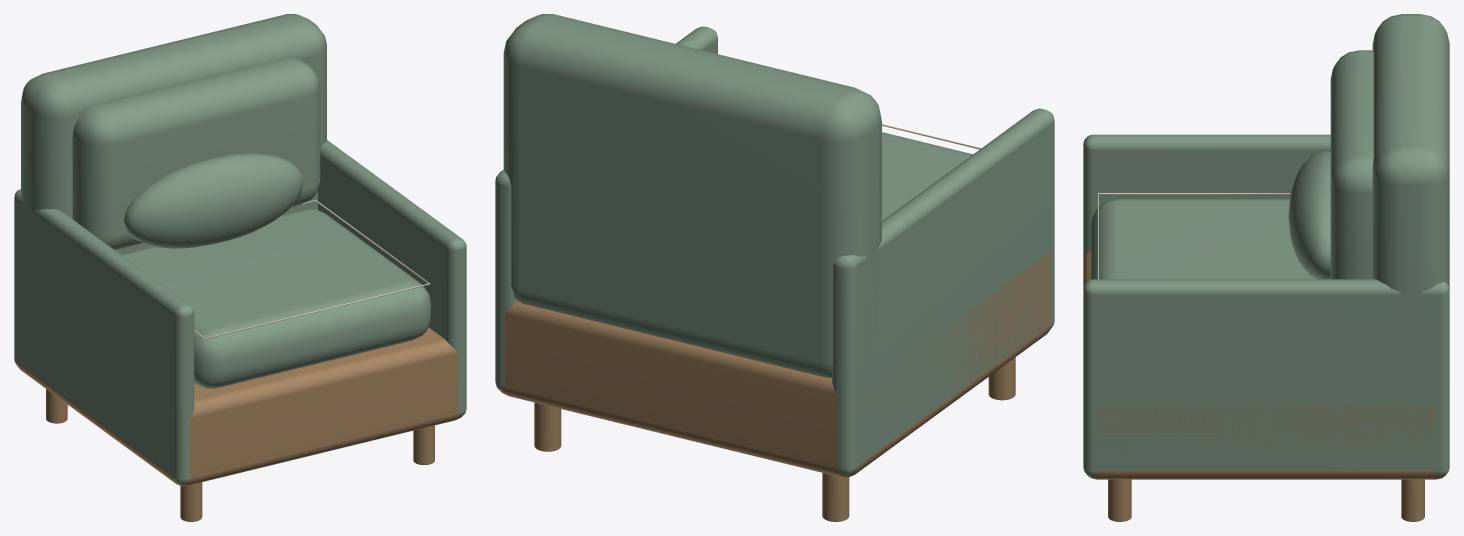
The picture shows the model from 3 angles, left to right: view 1: azimuth 30°, elevation 25°; view 2: azimuth 150°, elevation 25°; view 3: azimuth 270°, elevation 25°; orthographic projection. The views are drawn at different scales.
Visible parts, largest first — view 1: arm_-1, seat_0, cushion_0, base, back, arm_1, pillow_-1, seam_seat_0, leg_-1_1, leg_1_1, leg_-1_-1; view 2: back, arm_-1, base, seat_0, arm_1, leg_-1_-1, leg_1_-1, leg_-1_1; view 3: arm_1, back, seat_0, arm_-1, cushion_0, base, pillow_-1, leg_1_-1, leg_1_1, seam_seat_0.
Boxes of the visible parts, <box> form: arm_-1: <box>14,189,194,484</box>; seat_0: <box>120,209,430,388</box>; cushion_0: <box>72,58,320,249</box>; base: <box>17,305,462,486</box>; back: <box>21,14,326,253</box>; arm_1: <box>318,140,466,415</box>; pillow_-1: <box>124,153,303,248</box>; seam_seat_0: <box>115,200,430,339</box>; leg_-1_1: <box>180,482,202,521</box>; leg_1_1: <box>413,425,434,465</box>; leg_-1_-1: <box>46,389,67,423</box>; back: <box>503,14,881,377</box>; arm_-1: <box>832,108,1054,475</box>; base: <box>500,252,1051,477</box>; seat_0: <box>882,132,972,220</box>; arm_1: <box>495,26,717,390</box>; leg_-1_-1: <box>822,473,849,521</box>; leg_1_-1: <box>534,402,561,451</box>; leg_-1_1: <box>988,357,1015,400</box>; arm_1: <box>1083,279,1449,476</box>; back: <box>1372,14,1449,375</box>; seat_0: <box>1090,199,1315,279</box>; arm_-1: <box>1083,134,1330,256</box>; cushion_0: <box>1330,50,1373,279</box>; base: <box>1083,251,1445,479</box>; pillow_-1: <box>1288,151,1330,279</box>; leg_1_-1: <box>1401,479,1424,521</box>; leg_1_1: <box>1108,479,1131,521</box>; seam_seat_0: <box>1098,193,1290,279</box>.
Bounding box in the file's own units: 0.8 × 0.9 × 0.8.
